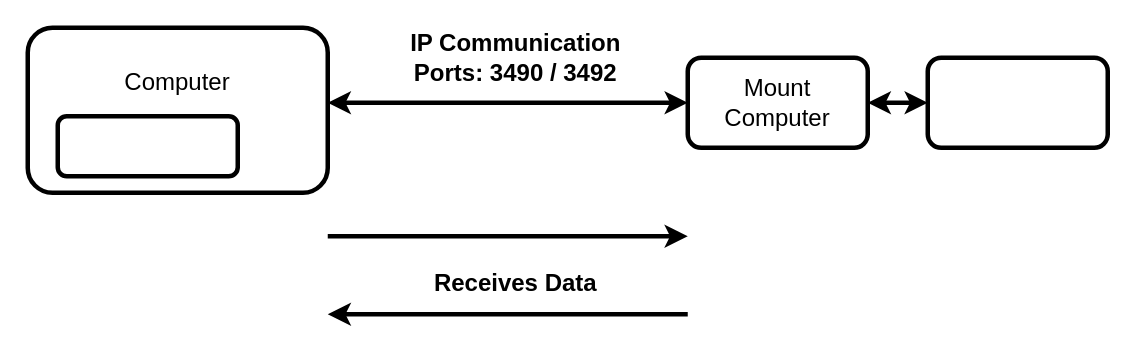
The diagram is 1136 pixels wide and 354 high, and some of its shapes have lost their labels. Here are the shapes that lost their labels. From the top down, the centre of each, then its label:
the point at 1017,102: Mount
the point at 147,145: MountWizzard4
